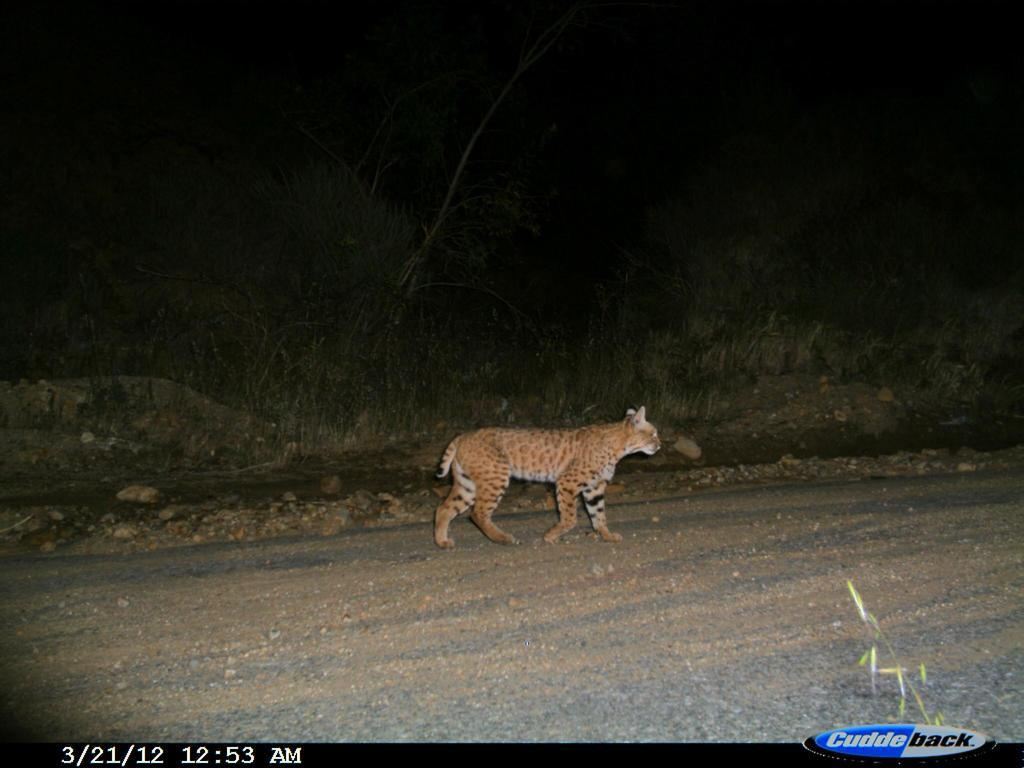bobcat: (426, 402, 665, 559)
